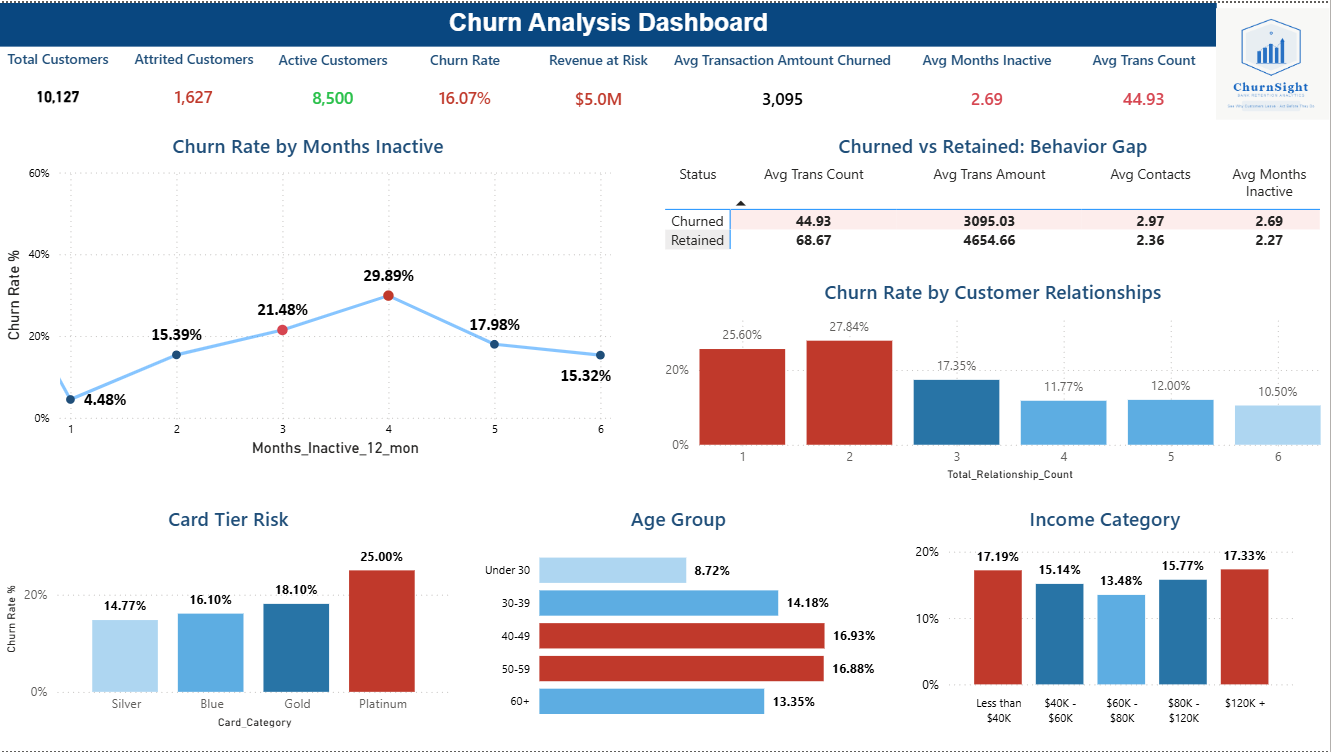

This screenshot's page, from the dashboard's own definition file:
{"tool":"powerbi","page":{"name":"Churn Customers analysis Dashboard","canvas":[1280,720],"ordinal":0},"visuals":[{"type":"textbox","box":[0,0,1171.2,42.3],"z":0},{"type":"cardVisual","title":"Total Customers","fields":{"Data":["BankChurners_Data.Total Customers"]},"box":[0,44.5,111.7,72.2],"z":1000},{"type":"cardVisual","title":"Attrited Customers","fields":{"Data":["CountNonNull(BankChurners_Data.Churn_Status)"]},"box":[119.3,44.3,134.7,72.2],"z":2000},{"type":"cardVisual","title":"Active Customers","fields":{"Data":["CountNonNull(BankChurners_Data.Churn_Status)"]},"box":[260.8,45.2,119.3,71.2],"z":3000},{"type":"cardVisual","title":"Churn Rate","fields":{"Data":["BankChurners_Data.Churn Rate"]},"box":[389.8,45.2,115.5,71.2],"z":4000},{"type":"cardVisual","title":"Avg Transaction Amtount Churned ","fields":{"Data":["BankChurners_Data.Avg Trans Amt Churned"]},"box":[640,45.2,226.2,73.1],"z":5000},{"type":"cardVisual","title":"Avg Months Inactive","fields":{"Data":["BankChurners_Data.Avg Months Inactive"]},"box":[875.8,45.2,148.2,73.1],"z":6000},{"type":"cardVisual","title":"Avg Trans Count","fields":{"Data":["BankChurners_Data.Avg Trans Count"]},"box":[1031.7,45.2,138.6,73.1],"z":7000},{"type":"clusteredColumnChart","title":"Income Category","fields":{"Category":["BankChurners_Data.Income_Category"],"Y":["BankChurners_Data.Churn Rate"]},"box":[875.8,483.1,375.3,219.4],"z":8000},{"type":"clusteredColumnChart","title":"Card Tier Risk","fields":{"Category":["BankChurners_Data.Card_Category"],"Y":["BankChurners_Data.Churn Rate %"]},"box":[0,483.1,439.8,219.4],"z":9000},{"type":"clusteredBarChart","title":"Age Group","fields":{"Category":["BankChurners_Data.Age Group"],"Y":["BankChurners_Data.Churn Rate %"]},"box":[458.1,483.1,389.8,219.4],"z":10000},{"type":"lineChart","title":"Churn Rate by Months Inactive","fields":{"Category":["BankChurners_Data.Months_Inactive_12_mon"],"Y":["BankChurners_Data.Churn Rate %"]},"box":[0,124.2,592.8,316.6],"z":11000},{"type":"pivotTable","title":"Churned vs Retained: Behavior Gap","fields":{"Values":["Avg(BankChurners_Data.Total_Transaction_Count)","Avg(BankChurners_Data.Total_Transaction_Amount)","Avg(BankChurners_Data.Contacts_Count_12_mon)","Avg(BankChurners_Data.Months_Inactive_12_mon)"],"Rows":["BankChurners_Data.Churn_Status"]},"box":[635.4,124.4,640.8,131.1],"z":12000},{"type":"image","box":[1170.3,1,108.8,115.5],"z":13000},{"type":"clusteredColumnChart","title":"Churn Rate by Customer Relationships","fields":{"Category":["BankChurners_Data.Total_Relationship_Count"],"Y":["BankChurners_Data.Churn Rate %"]},"box":[635.4,265,640.8,200.1],"z":14000},{"type":"cardVisual","title":" Revenue at Risk ","fields":{"Data":["BankChurners_Data.Revenue at Risk"]},"box":[516.8,45.2,118.4,73.1],"z":15000}]}

Visuals, with their boxes in screenshot pixels (x1, y1, x2, y2), scaled from the page's 1280x720 canvas onto the 1331x752 screenshot:
textbox: pyautogui.locateOnScreen(0, 0, 1218, 44)
"Total Customers" cardVisual: pyautogui.locateOnScreen(0, 46, 116, 122)
"Attrited Customers" cardVisual: pyautogui.locateOnScreen(124, 46, 264, 122)
"Active Customers" cardVisual: pyautogui.locateOnScreen(271, 47, 395, 122)
"Churn Rate" cardVisual: pyautogui.locateOnScreen(405, 47, 525, 122)
"Avg Transaction Amtount Churned " cardVisual: pyautogui.locateOnScreen(666, 47, 901, 124)
"Avg Months Inactive" cardVisual: pyautogui.locateOnScreen(911, 47, 1065, 124)
"Avg Trans Count" cardVisual: pyautogui.locateOnScreen(1073, 47, 1217, 124)
"Income Category" clusteredColumnChart: pyautogui.locateOnScreen(911, 505, 1301, 734)
"Card Tier Risk" clusteredColumnChart: pyautogui.locateOnScreen(0, 505, 457, 734)
"Age Group" clusteredBarChart: pyautogui.locateOnScreen(476, 505, 882, 734)
"Churn Rate by Months Inactive" lineChart: pyautogui.locateOnScreen(0, 130, 616, 460)
"Churned vs Retained: Behavior Gap" pivotTable: pyautogui.locateOnScreen(661, 130, 1327, 267)
image: pyautogui.locateOnScreen(1217, 1, 1330, 122)
"Churn Rate by Customer Relationships" clusteredColumnChart: pyautogui.locateOnScreen(661, 277, 1327, 486)
" Revenue at Risk " cardVisual: pyautogui.locateOnScreen(537, 47, 661, 124)
